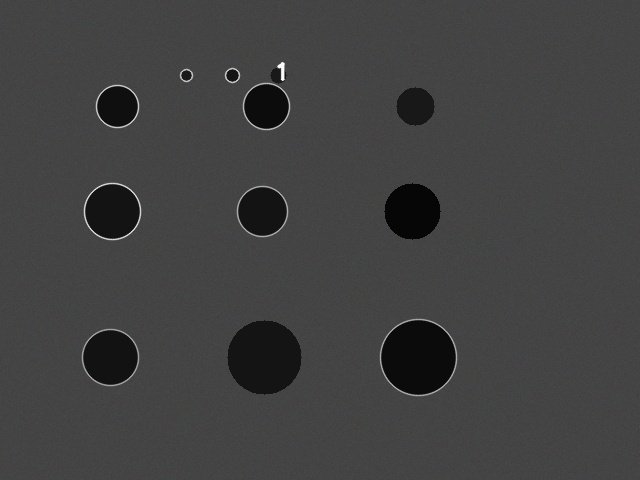hole: (380, 319, 456, 395), (227, 320, 301, 394), (84, 183, 140, 239), (384, 183, 440, 239), (82, 329, 138, 385), (237, 186, 287, 236), (243, 83, 289, 129), (96, 85, 138, 127), (396, 87, 434, 125), (270, 67, 286, 83), (225, 68, 239, 82), (180, 69, 192, 81)
